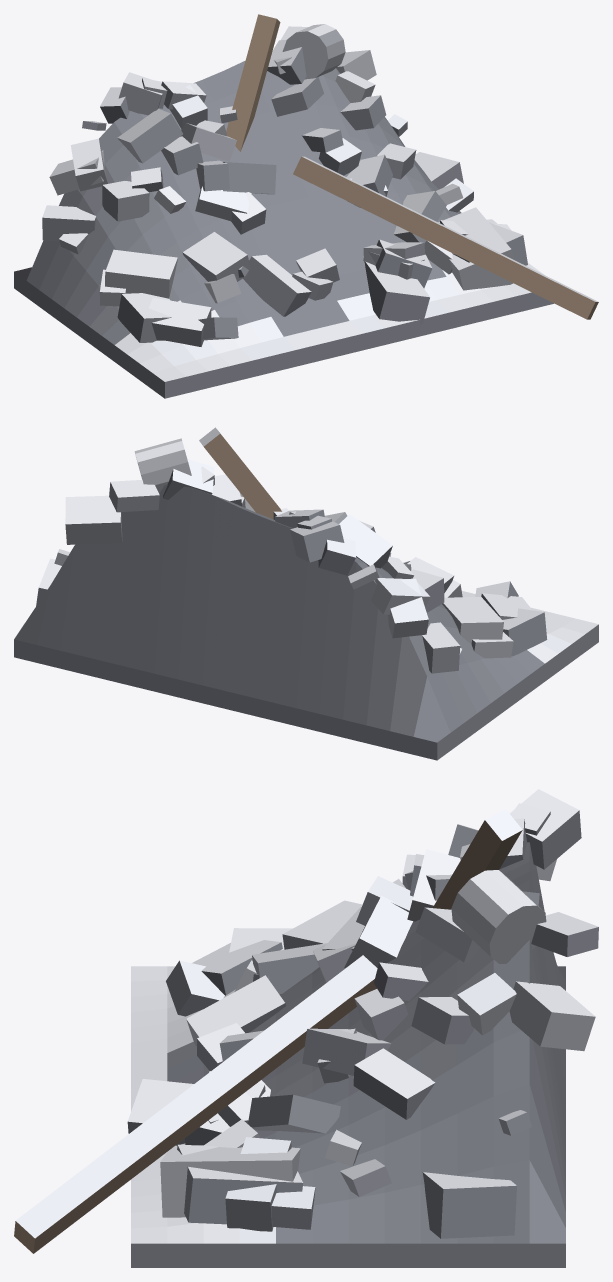
Rendered from PR_Escombros_Encostado_A.fbx.
3 views of the same model, one above another, from view 1: azimuth 30°, elevation 25°; view 2: azimuth 150°, elevation 25°; view 3: azimuth 270°, elevation 25° (orthographic). The views are drawn at different scales.
Visible parts, largest first — view 1: PR_Escombros_Encostado_A; view 2: PR_Escombros_Encostado_A; view 3: PR_Escombros_Encostado_A.
Boxes of the visible parts, x1,y1,x2,y2 form: PR_Escombros_Encostado_A: [14, 14, 598, 398]; PR_Escombros_Encostado_A: [14, 427, 598, 760]; PR_Escombros_Encostado_A: [14, 789, 598, 1267].
Bounding box in the file's own units: 7.66 × 4.21 × 6.59.
